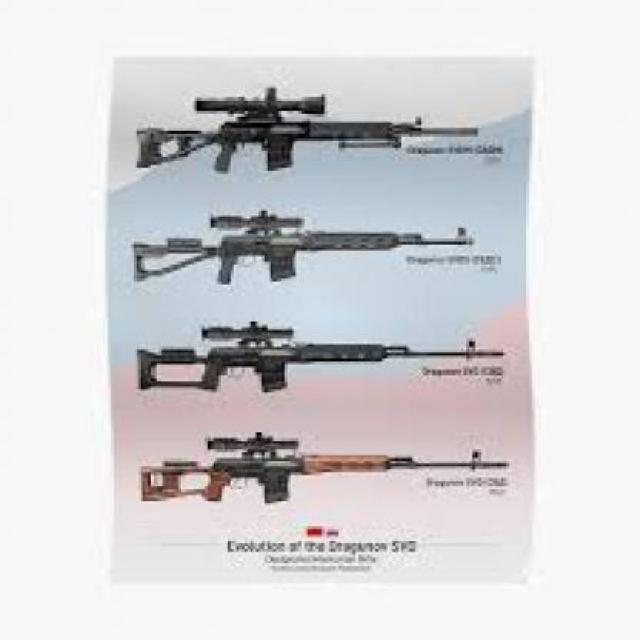weapon: (138, 427, 518, 536), (129, 78, 486, 182), (122, 206, 501, 299), (116, 312, 504, 397)
